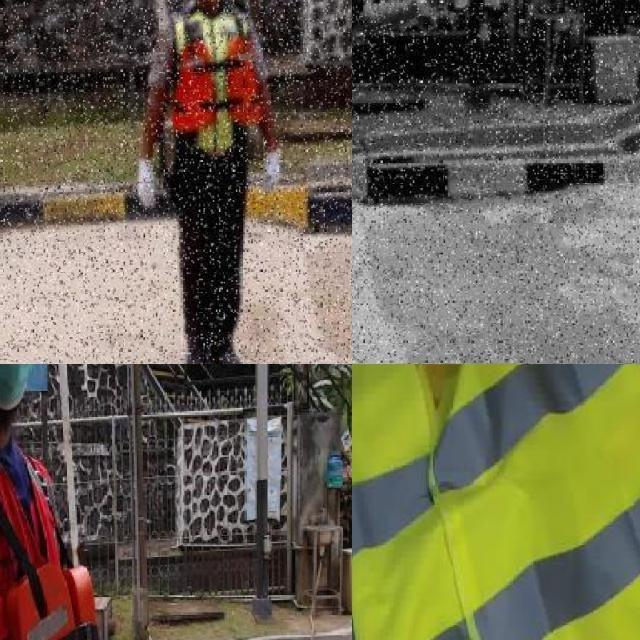apron: (134, 156, 159, 212), (259, 148, 282, 197), (416, 0, 470, 18)
